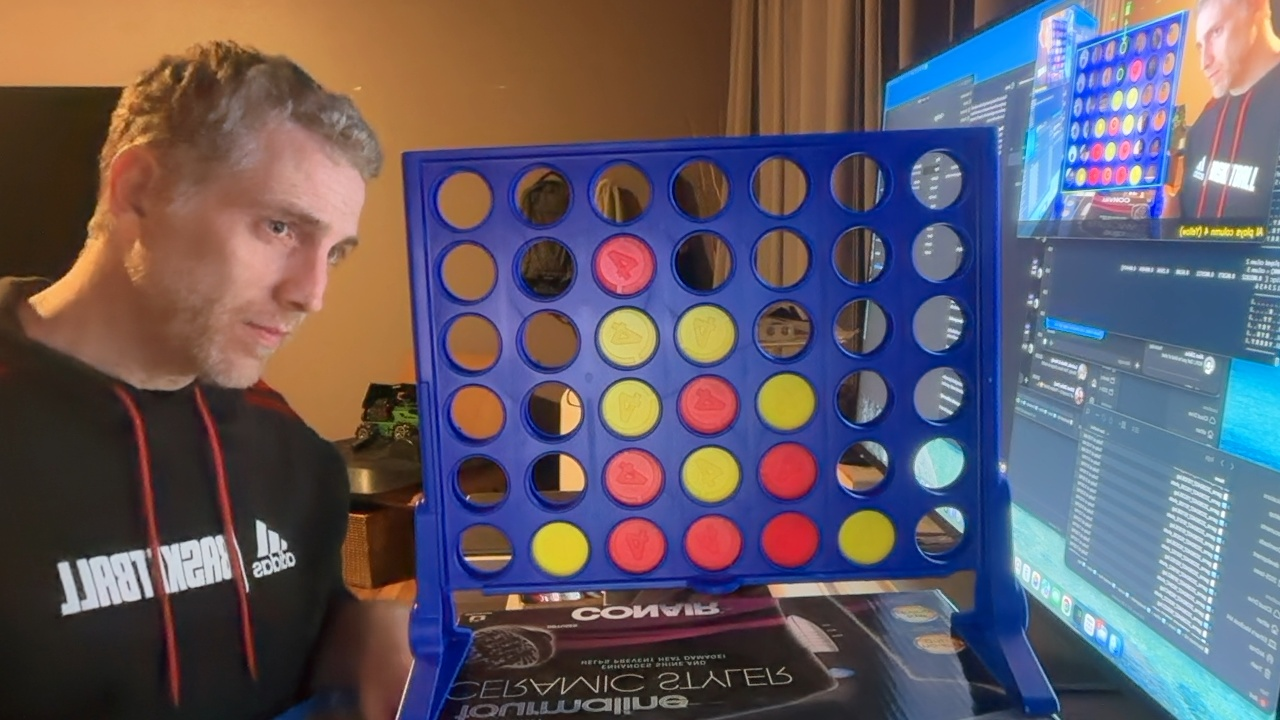red piece: (594, 235, 655, 296), (678, 375, 738, 434), (603, 449, 663, 506), (759, 442, 817, 499), (684, 515, 742, 571), (761, 512, 819, 568), (608, 518, 666, 573)
yellow piece: (597, 308, 657, 367), (676, 305, 736, 363), (601, 379, 660, 437), (757, 372, 815, 430), (681, 446, 740, 503), (531, 521, 589, 576), (838, 510, 895, 565)
